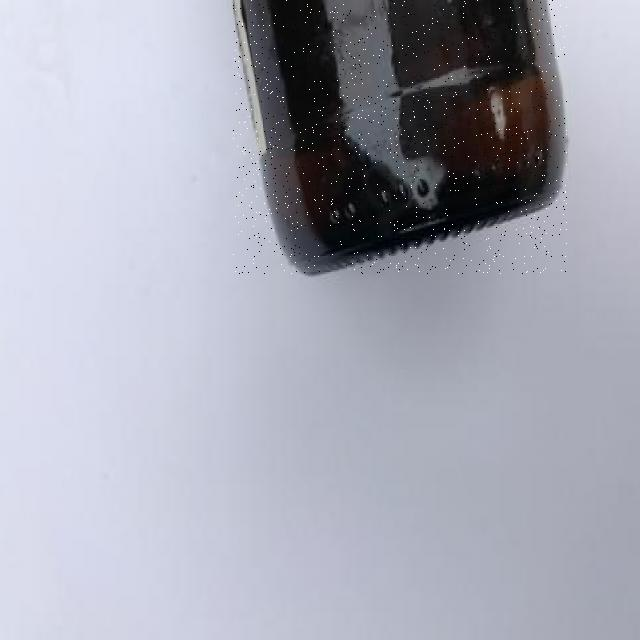glass: (234, 0, 567, 274)
